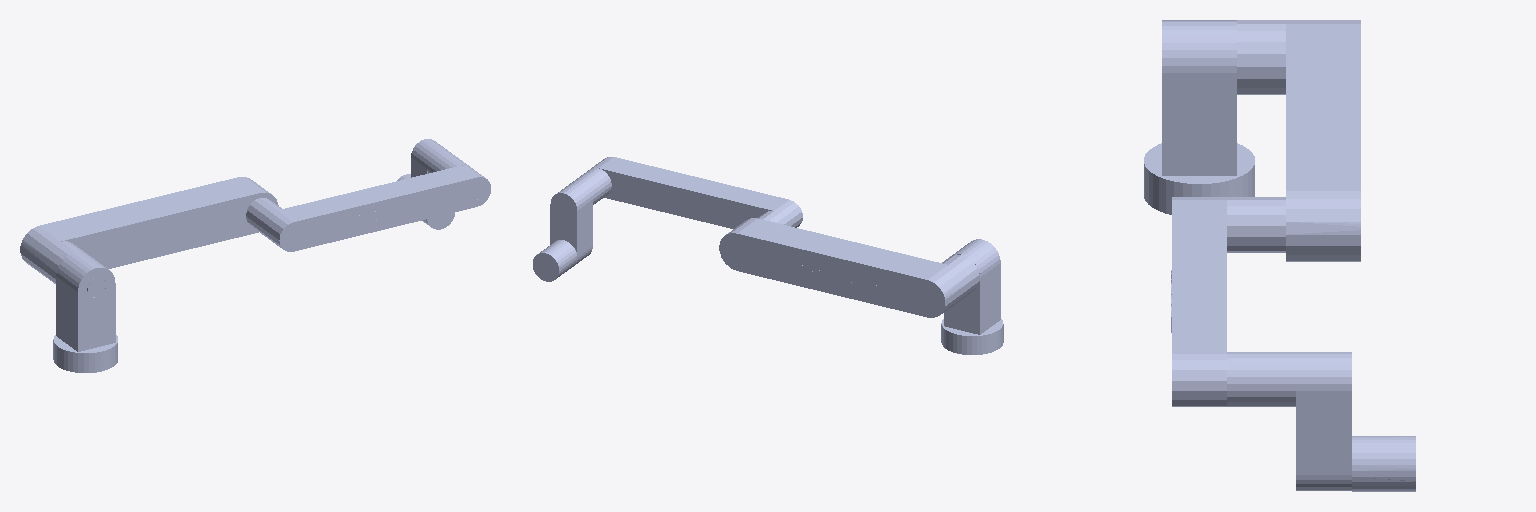
URDF robot description (justbot):
<?xml version="1.0" encoding="utf-8"?>
<!-- This URDF was automatically created by SolidWorks to URDF Exporter! Originally created by [author] ([email redacted]) 
     Commit Version: 1.6.0-4-g7f85cfe  Build Version: 1.6.7995.38578
     For more information, please see http://wiki.ros.org/sw_urdf_exporter -->
<robot
  name="justbot">
  <link name="world" />
  <joint name="fixed" type="fixed">
    <parent link="world" />
    <child link="base_link" />
  </joint>
  <link
    name="base_link">
    <inertial>
      <origin
        xyz="-1.501523162094E-18 -9.98976698985072E-19 0.0242878466872111"
        rpy="0 0 0" />
      <mass
        value="0.509723408044944" />
      <inertia
        ixx="0.000562062131048509"
        ixy="2.80703650453303E-36"
        ixz="-1.70019905570331E-20"
        iyy="0.000562062131048509"
        iyz="-1.99886657001989E-20"
        izz="0.000837077362549" />
    </inertial>
    <visual>
      <origin
        xyz="0 0 0"
        rpy="0 0 0" />
      <geometry>
        <mesh
          filename="package://justbot/meshes/base_link.dae" />
      </geometry>
      <material
        name="">
        <color
          rgba="0.792156862745098 0.819607843137255 0.933333333333333 1" />
      </material>
    </visual>
    <collision>
      <origin
        xyz="0 0 0"
        rpy="0 0 0" />
      <geometry>
        <mesh
          filename="package://justbot/meshes/base_link.dae" />
      </geometry>
    </collision>
  </link>
  <link
    name="link_1">
    <inertial>
      <origin
        xyz="1.0171556094959E-18 -1.09336923950592E-17 0.0549055408748314"
        rpy="0 0 0" />
      <mass
        value="0.830265482457438" />
      <inertia
        ixx="0.00203681888094444"
        ixy="-1.30713124502344E-21"
        ixz="3.46319733153048E-21"
        iyy="0.00205357404176359"
        iyz="-1.53095519710022E-19"
        izz="0.000945935093570191" />
    </inertial>
    <visual>
      <origin
        xyz="0 0 0"
        rpy="0 0 0" />
      <geometry>
        <mesh
          filename="package://justbot/meshes/link_1.dae" />
      </geometry>
      <material
        name="">
        <color
          rgba="0.792156862745098 0.819607843137255 0.933333333333333 1" />
      </material>
    </visual>
    <collision>
      <origin
        xyz="0 0 0"
        rpy="0 0 0" />
      <geometry>
        <mesh
          filename="package://justbot/meshes/link_1.dae" />
      </geometry>
    </collision>
  </link>
  <joint
    name="joint_1"
    type="revolute">
    <origin
      xyz="0 0 0.060625"
      rpy="0 0 0" />
    <parent
      link="base_link" />
    <child
      link="link_1" />
    <axis
      xyz="0 0 1" />
    <limit effort="150.0" lower="-6.28318530718" upper="6.28318530718" velocity="3.14"/>
  </joint>
  <link
    name="link_2">
    <inertial>
      <origin
        xyz="0.183102814406912 9.35362898246694E-15 0.124079659201039"
        rpy="0 0 0" />
      <mass
        value="3.39003888115763" />
      <inertia
        ixx="0.00613550007773526"
        ixy="-2.5317738236829E-18"
        ixz="-0.00572330212867927"
        iyy="0.0758546236119664"
        iyz="7.38649342611205E-19"
        izz="0.0731564879724906" />
    </inertial>
    <visual>
      <origin
        xyz="0 0 0"
        rpy="0 0 0" />
      <geometry>
        <mesh
          filename="package://justbot/meshes/link_2.dae" />
      </geometry>
      <material
        name="">
        <color
          rgba="0.792156862745098 0.819607843137255 0.933333333333333 1" />
      </material>
    </visual>
    <collision>
      <origin
        xyz="0 0 0"
        rpy="0 0 0" />
      <geometry>
        <mesh
          filename="package://justbot/meshes/link_2.dae" />
      </geometry>
    </collision>
  </link>
  <joint
    name="joint_2"
    type="revolute">
    <origin
      xyz="0 0 0.101875"
      rpy="-1.5707963267949 0 0" />
    <parent
      link="link_1" />
    <child
      link="link_2" />
    <axis
      xyz="0 0 1" />
    <limit effort="150.0" lower="-6.28318530718" upper="6.28318530718" velocity="3.14"/>
  </joint>
  <link
    name="link_3">
    <inertial>
      <origin
        xyz="0.161388593638685 -9.4091401336982E-15 0.119864473827281"
        rpy="0 0 0" />
      <mass
        value="1.81866200086027" />
      <inertia
        ixx="0.00322307899255989"
        ixy="2.39517592047964E-18"
        ixz="-0.00394347878837956"
        iyy="0.0351952914651063"
        iyz="1.30904401378256E-18"
        izz="0.0329915795132328" />
    </inertial>
    <visual>
      <origin
        xyz="0 0 0"
        rpy="0 0 0" />
      <geometry>
        <mesh
          filename="package://justbot/meshes/link_3.dae" />
      </geometry>
      <material
        name="">
        <color
          rgba="0.792156862745098 0.819607843137255 0.933333333333333 1" />
      </material>
    </visual>
    <collision>
      <origin
        xyz="0 0 0"
        rpy="0 0 0" />
      <geometry>
        <mesh
          filename="package://justbot/meshes/link_3.dae" />
      </geometry>
    </collision>
  </link>
  <joint
    name="joint_3"
    type="revolute">
    <origin
      xyz="0.425000000000003 0 0.1333"
      rpy="3.14159265358979 0 0" />
    <parent
      link="link_2" />
    <child
      link="link_3" />
    <axis
      xyz="0 0 -1" />
    <limit effort="150.0" lower="-3.14159265359" upper="3.14159265359" velocity="3.14"/>
  </joint>
  <link
    name="link_4">
    <inertial>
      <origin
        xyz="-3.44169137633799E-15 0.0115289114502005 0.0987967449476777"
        rpy="0 0 0" />
      <mass
        value="0.564199619415974" />
      <inertia
        ixx="0.00154204456756717"
        ixy="-1.2848144879846E-22"
        ixz="3.79774791975331E-20"
        iyy="0.0013498280848747"
        iyz="-0.000224430129948098"
        izz="0.000476587370665697" />
    </inertial>
    <visual>
      <origin
        xyz="0 0 0"
        rpy="0 0 0" />
      <geometry>
        <mesh
          filename="package://justbot/meshes/link_4.dae" />
      </geometry>
      <material
        name="">
        <color
          rgba="0.792156862745098 0.819607843137255 0.933333333333333 1" />
      </material>
    </visual>
    <collision>
      <origin
        xyz="0 0 0"
        rpy="0 0 0" />
      <geometry>
        <mesh
          filename="package://justbot/meshes/link_4.dae" />
      </geometry>
    </collision>
  </link>
  <joint
    name="joint_4"
    type="revolute">
    <origin
      xyz="0.3922 0 0.1333"
      rpy="3.14159265358979 0 0" />
    <parent
      link="link_3" />
    <child
      link="link_4" />
    <axis
      xyz="0 0 1" />
    <limit effort="28.0" lower="-6.28318530718" upper="6.28318530718" velocity="6.28"/>
  </joint>
  <link
    name="link_5">
    <inertial>
      <origin
        xyz="3.5527136788005E-15 4.16333634234434E-16 0.0909930736404903"
        rpy="0 0 0" />
      <mass
        value="0.171617251235193" />
      <inertia
        ixx="0.000126937476961934"
        ixy="2.58335477231217E-21"
        ixz="-4.233199045199E-21"
        iyy="0.000130913555164134"
        iyz="2.81320832287711E-21"
        izz="9.66086256175968E-05" />
    </inertial>
    <visual>
      <origin
        xyz="0 0 0"
        rpy="0 0 0" />
      <geometry>
        <mesh
          filename="package://justbot/meshes/link_5.dae" />
      </geometry>
      <material
        name="">
        <color
          rgba="0.792156862745098 0.819607843137255 0.933333333333333 1" />
      </material>
    </visual>
    <collision>
      <origin
        xyz="0 0 0"
        rpy="0 0 0" />
      <geometry>
        <mesh
          filename="package://justbot/meshes/link_5.dae" />
      </geometry>
    </collision>
  </link>
  <joint
    name="joint_5"
    type="revolute">
    <origin
      xyz="0 0 0.1333"
      rpy="1.5707963267949 0 3.14159265358979" />
    <parent
      link="link_4" />
    <child
      link="link_5" />
    <axis
      xyz="0 0 -1" />
    <limit effort="28.0" lower="-6.28318530718" upper="6.28318530718" velocity="6.28"/>
  </joint>
  <link
    name="link_6">
    <inertial>
      <origin
        xyz="-3.33066907387547E-15 9.32587340685131E-15 0.0533108106325026"
        rpy="0 0 0" />
      <mass
        value="0.239201755179413" />
      <inertia
        ixx="0.000285340334026843"
        ixy="9.58284049491214E-22"
        ixz="-7.36427033576577E-20"
        iyy="0.00028534057911407"
        iyz="-1.07085344422525E-20"
        izz="9.33267857592035E-05" />
    </inertial>
    <visual>
      <origin
        xyz="0 0 0"
        rpy="0 0 0" />
      <geometry>
        <mesh
          filename="package://justbot/meshes/link_6.dae" />
      </geometry>
      <material
        name="">
        <color
          rgba="0.792156862745098 0.819607843137255 0.933333333333333 1" />
      </material>
    </visual>
    <collision>
      <origin
        xyz="0 0 0"
        rpy="0 0 0" />
      <geometry>
        <mesh
          filename="package://justbot/meshes/link_6.dae" />
      </geometry>
    </collision>
  </link>
  <joint
    name="joint_6"
    type="revolute">
    <origin
      xyz="0 0 0.0997"
      rpy="1.5707963267949 0 3.14159265358979" />
    <parent
      link="link_5" />
    <child
      link="link_6" />
    <axis
      xyz="0 0 1" />
    <limit effort="28.0" lower="-6.28318530718" upper="6.28318530718" velocity="6.28"/>
  </joint>
  <link
    name="link_n">
    <inertial>
      <origin
        xyz="0.015093468285773 9.35362898246694E-15 0.0450358154327502"
        rpy="0 0 0" />
      <mass
        value="0.203591044676702" />
      <inertia
        ixx="0.000241214315615011"
        ixy="-2.44021835354509E-19"
        ixz="0.000139798297357499"
        iyy="0.00044325277313205"
        iyz="1.67778796901328E-19"
        izz="0.000250181144749441" />
    </inertial>
  </link>
  <joint
    name="joint_n"
    type="fixed">
    <origin
      xyz="0 0 0.0995999999999999"
      rpy="0 0 0" />
    <parent
      link="link_6" />
    <child
      link="link_n" />
    <axis
      xyz="0 0 0" />
  </joint>
  <transmission name="trans_joint_1">
        <type>transmission_interface/SimpleTransmission</type>
        <joint name="joint_1">
            <hardwareInterface>hardware_interface/EffortJointInterface</hardwareInterface>
        </joint>
        <actuator name="joint_1_motor">
            <hardwareInterface>hardware_interface/EffortJointInterface</hardwareInterface>
            <mechanicalReduction>1</mechanicalReduction>
        </actuator>
    </transmission>
    <transmission name="trans_joint_2">
        <type>transmission_interface/SimpleTransmission</type>
        <joint name="joint_2">
            <hardwareInterface>hardware_interface/EffortJointInterface</hardwareInterface>
        </joint>
        <actuator name="joint_2_motor">
            <hardwareInterface>hardware_interface/EffortJointInterface</hardwareInterface>
            <mechanicalReduction>1</mechanicalReduction>
        </actuator>
    </transmission>
    <transmission name="trans_joint_3">
        <type>transmission_interface/SimpleTransmission</type>
        <joint name="joint_3">
            <hardwareInterface>hardware_interface/EffortJointInterface</hardwareInterface>
        </joint>
        <actuator name="joint_3_motor">
            <hardwareInterface>hardware_interface/EffortJointInterface</hardwareInterface>
            <mechanicalReduction>1</mechanicalReduction>
        </actuator>
    </transmission>
    <transmission name="trans_joint_4">
        <type>transmission_interface/SimpleTransmission</type>
        <joint name="joint_4">
            <hardwareInterface>hardware_interface/EffortJointInterface</hardwareInterface>
        </joint>
        <actuator name="joint_4_motor">
            <hardwareInterface>hardware_interface/EffortJointInterface</hardwareInterface>
            <mechanicalReduction>1</mechanicalReduction>
        </actuator>
    </transmission>
    <transmission name="trans_joint_5">
        <type>transmission_interface/SimpleTransmission</type>
        <joint name="joint_5">
            <hardwareInterface>hardware_interface/EffortJointInterface</hardwareInterface>
        </joint>
        <actuator name="joint_5_motor">
            <hardwareInterface>hardware_interface/EffortJointInterface</hardwareInterface>
            <mechanicalReduction>1</mechanicalReduction>
        </actuator>
    </transmission>
    <transmission name="trans_joint_6">
        <type>transmission_interface/SimpleTransmission</type>
        <joint name="joint_6">
            <hardwareInterface>hardware_interface/EffortJointInterface</hardwareInterface>
        </joint>
        <actuator name="joint_6_motor">
            <hardwareInterface>hardware_interface/EffortJointInterface</hardwareInterface>
            <mechanicalReduction>1</mechanicalReduction>
        </actuator>
    </transmission>
</robot>

--- Facts derived from the render (not from the file) ---
Views: 3 orthographic renders of the robot side by side, from view 1: azimuth 30°, elevation 25°; view 2: azimuth 150°, elevation 25°; view 3: azimuth 270°, elevation 25°.
Robot: justbot — 9 links, 8 joints (6 revolute, 2 fixed); root link world; default pose: every joint at zero.
Visible links, largest first — view 1: link_2, link_3, link_1, base_link, link_4; view 2: link_2, link_3, link_1, link_4, base_link, link_6; view 3: link_2, link_3, link_1, link_4, base_link, link_6, link_5.
Boxes of the visible links, x1=… form: link_2: x1=20, y1=177, x2=278, y2=297; link_3: x1=246, y1=165, x2=490, y2=251; link_1: x1=56, y1=252, x2=115, y2=351; base_link: x1=53, y1=335, x2=117, y2=372; link_4: x1=411, y1=139, x2=483, y2=199; link_2: x1=719, y1=218, x2=979, y2=317; link_3: x1=591, y1=157, x2=802, y2=261; link_1: x1=944, y1=239, x2=1000, y2=334; link_4: x1=550, y1=168, x2=611, y2=242; base_link: x1=941, y1=319, x2=1003, y2=354; link_6: x1=533, y1=240, x2=576, y2=281; link_2: x1=1237, y1=20, x2=1360, y2=261; link_3: x1=1171, y1=197, x2=1285, y2=406; link_1: x1=1162, y1=20, x2=1236, y2=175; link_4: x1=1227, y1=352, x2=1351, y2=449; base_link: x1=1144, y1=143, x2=1254, y2=214; link_6: x1=1352, y1=436, x2=1415, y2=491; link_5: x1=1296, y1=450, x2=1351, y2=490.
Bounding box of the posed robot: 0.9071 × 0.2929 × 0.2025 m (x, y, z).
Meshes: 7 distinct files referenced, 7 mesh visuals loaded (7 Collada DAE).